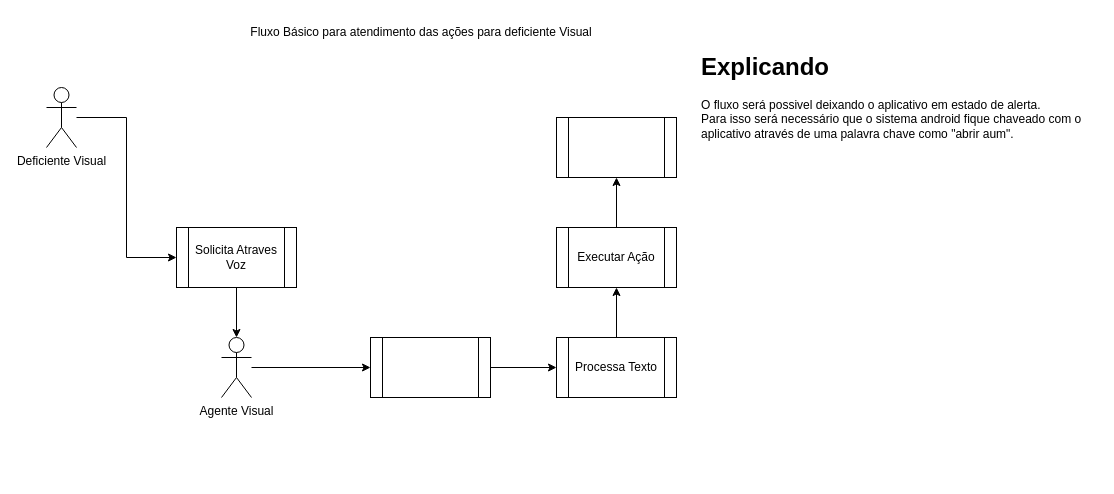
This 1114x494 diagram has some shape labels left out. The centre of each missing label's shape, as x and y in pixels:
Informar Resultado Por Voz: (x=616, y=147)
Processar Voz: (x=430, y=367)
